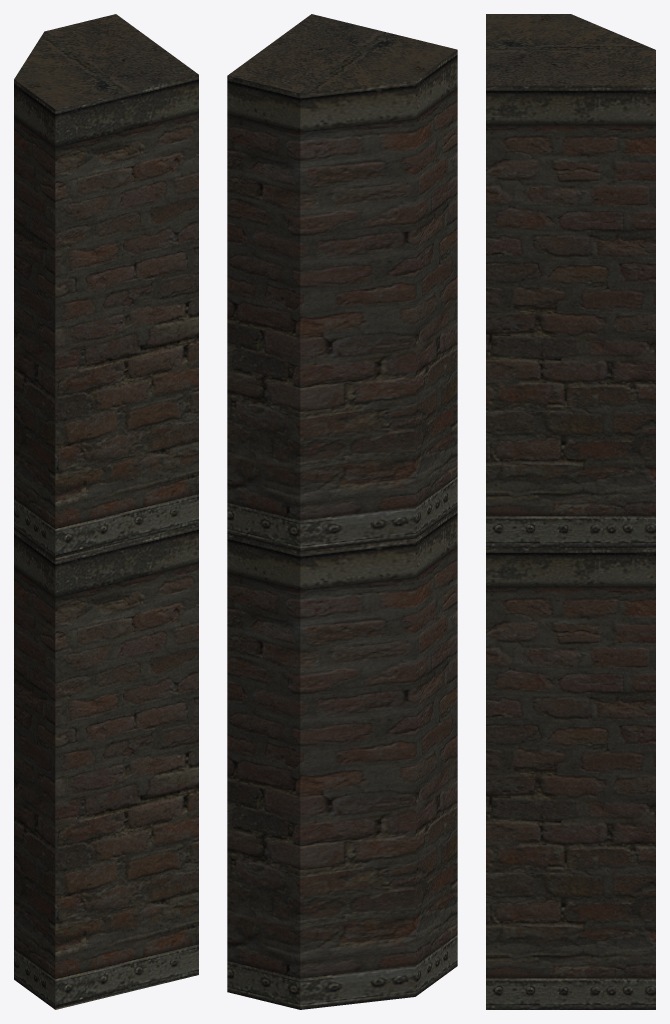
The model's file is pillar_hr_6.dae.
The picture shows the model from 3 angles, left to right: view 1: azimuth 30°, elevation 25°; view 2: azimuth 150°, elevation 25°; view 3: azimuth 270°, elevation 25°; orthographic projection. The views are drawn at different scales.
Parts seen in each view (by area): view 1: pillar_hr_6; view 2: pillar_hr_6; view 3: pillar_hr_6.
Part boxes in pixels (bbox=[...]): pillar_hr_6: bbox=[14, 14, 198, 1009]; pillar_hr_6: bbox=[227, 14, 457, 1009]; pillar_hr_6: bbox=[486, 14, 655, 1009].
Bounding box in the file's own units: 1 × 1 × 6.
Materials: 2 (2 with a texture image).
